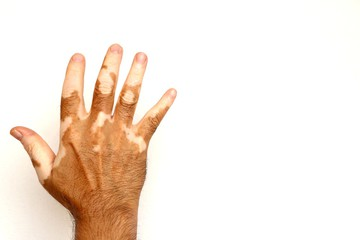vitiligo: (38, 54, 149, 198)
